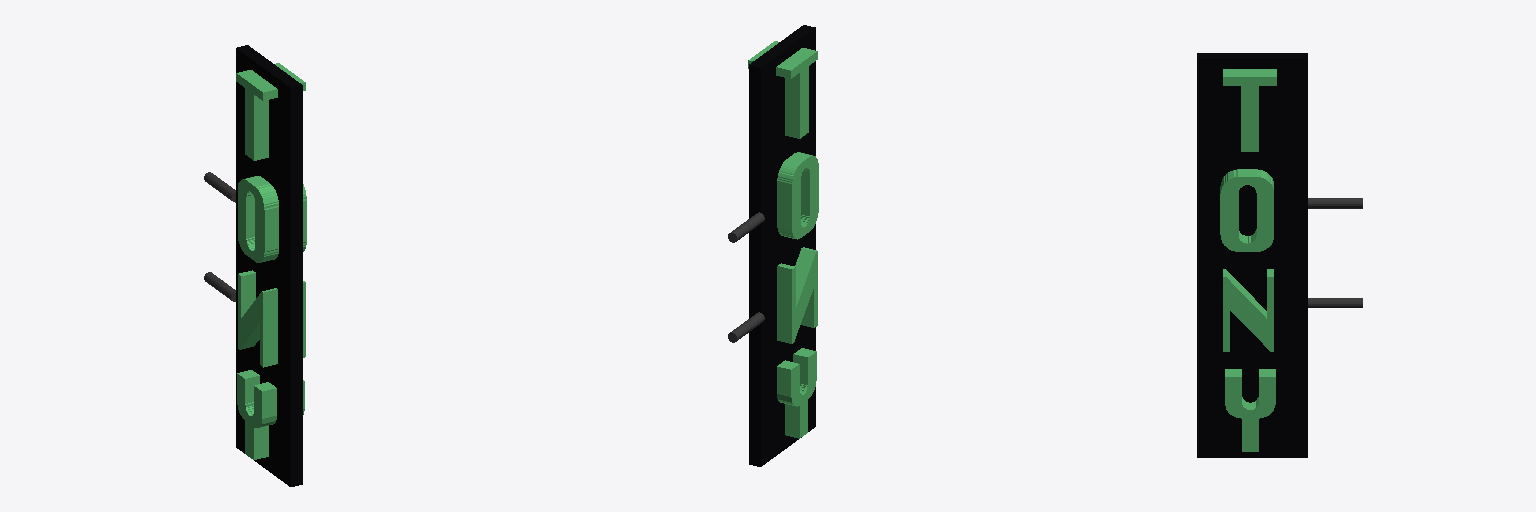
File: TONY.obj
The picture shows the model from 3 angles: view 1: azimuth 30°, elevation 25°; view 2: azimuth 150°, elevation 25°; view 3: azimuth 270°, elevation 25°; orthographic projection.
Bounding box in the file's own units: 0.089 × 0.8 × 0.3.